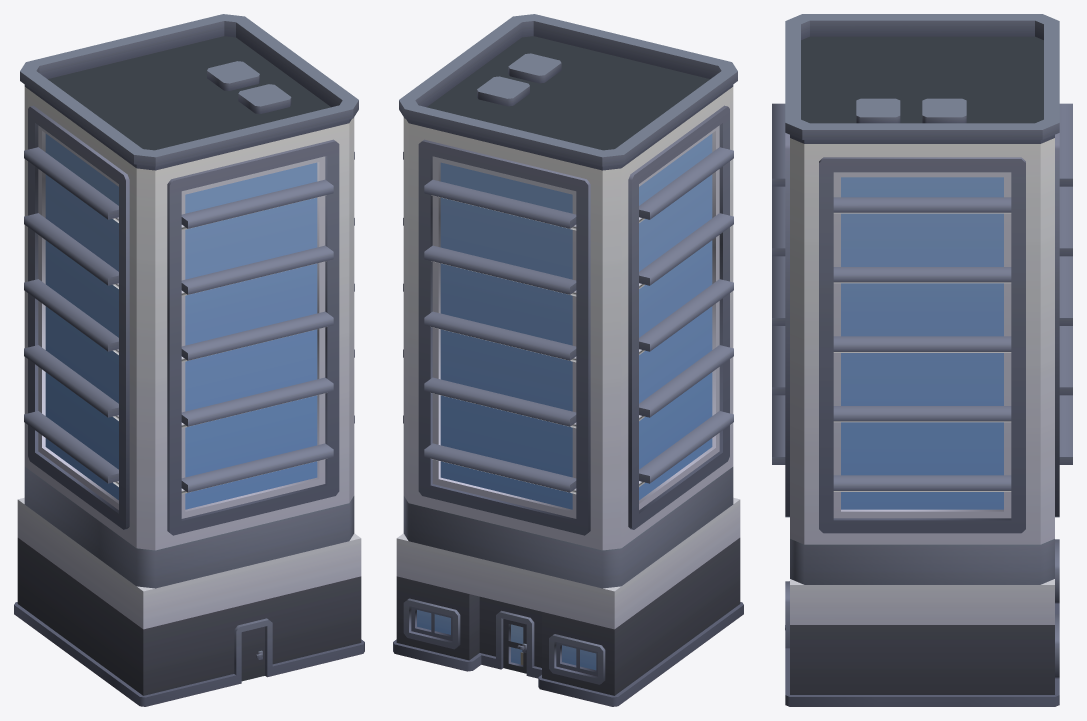
File: exterior.glb
3 renders of one model, left to right at view 1: azimuth 30°, elevation 25°; view 2: azimuth 150°, elevation 25°; view 3: azimuth 270°, elevation 25°, orthographic. The views are drawn at different scales.
Visible parts, largest first — view 1: building-skyscraper-a; view 2: building-skyscraper-a; view 3: building-skyscraper-a.
Boxes of the visible parts, x1,y1,x2,y2 form: building-skyscraper-a: (14, 14, 364, 706); building-skyscraper-a: (393, 14, 743, 706); building-skyscraper-a: (772, 14, 1072, 706).
Size of the model in its own units: 1.36 by 2.93 by 1.36.
Materials: 15 (14 with a texture image).
